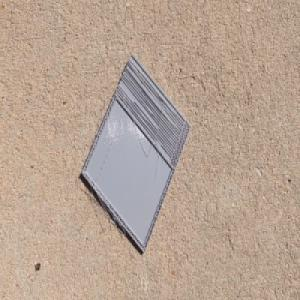PlasticPart: (79, 51, 191, 255)
